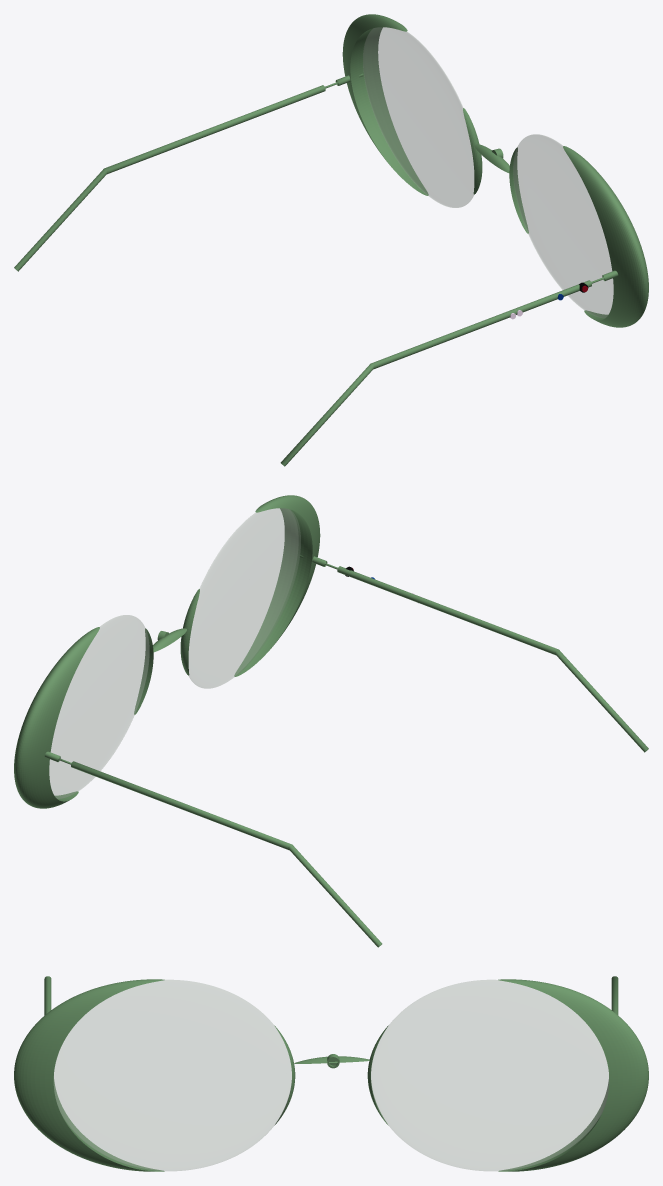
The model's file is groen2.glb.
3 views of the same model, one above another, from view 1: azimuth 30°, elevation 25°; view 2: azimuth 150°, elevation 25°; view 3: azimuth 270°, elevation 25° (orthographic). The views are drawn at different scales.
Parts seen in each view (by area): view 1: Sphere.016, Sphere.015, Sphere.014, Sphere.011, Cylinder.012, Cylinder.009; view 2: Sphere.015, Sphere.016, Sphere.011, Sphere.014, Cylinder.009, Cylinder.012; view 3: Sphere.016, Sphere.015, Sphere.011, Sphere.014, Sphere.007.
Boxes of the visible parts, left/top/right/bottom form: Sphere.016: left=363, top=27, right=473, bottom=207; Sphere.015: left=513, top=134, right=613, bottom=317; Sphere.014: left=509, top=146, right=648, bottom=327; Sphere.011: left=342, top=14, right=482, bottom=195; Cylinder.012: left=14, top=73, right=363, bottom=271; Cylinder.009: left=280, top=270, right=618, bottom=466; Sphere.015: left=189, top=508, right=300, bottom=688; Sphere.016: left=49, top=615, right=149, bottom=798; Sphere.011: left=14, top=627, right=153, bottom=808; Sphere.014: left=180, top=495, right=320, bottom=676; Cylinder.009: left=299, top=555, right=648, bottom=752; Cylinder.012: left=45, top=751, right=382, bottom=947; Sphere.016: left=371, top=980, right=608, bottom=1170; Sphere.015: left=54, top=980, right=291, bottom=1170; Sphere.011: left=367, top=979, right=648, bottom=1171; Sphere.014: left=14, top=979, right=295, bottom=1171; Sphere.007: left=294, top=1056, right=369, bottom=1063.
Bounding box in the file's own units: 3.96 × 2.05 × 5.59.
